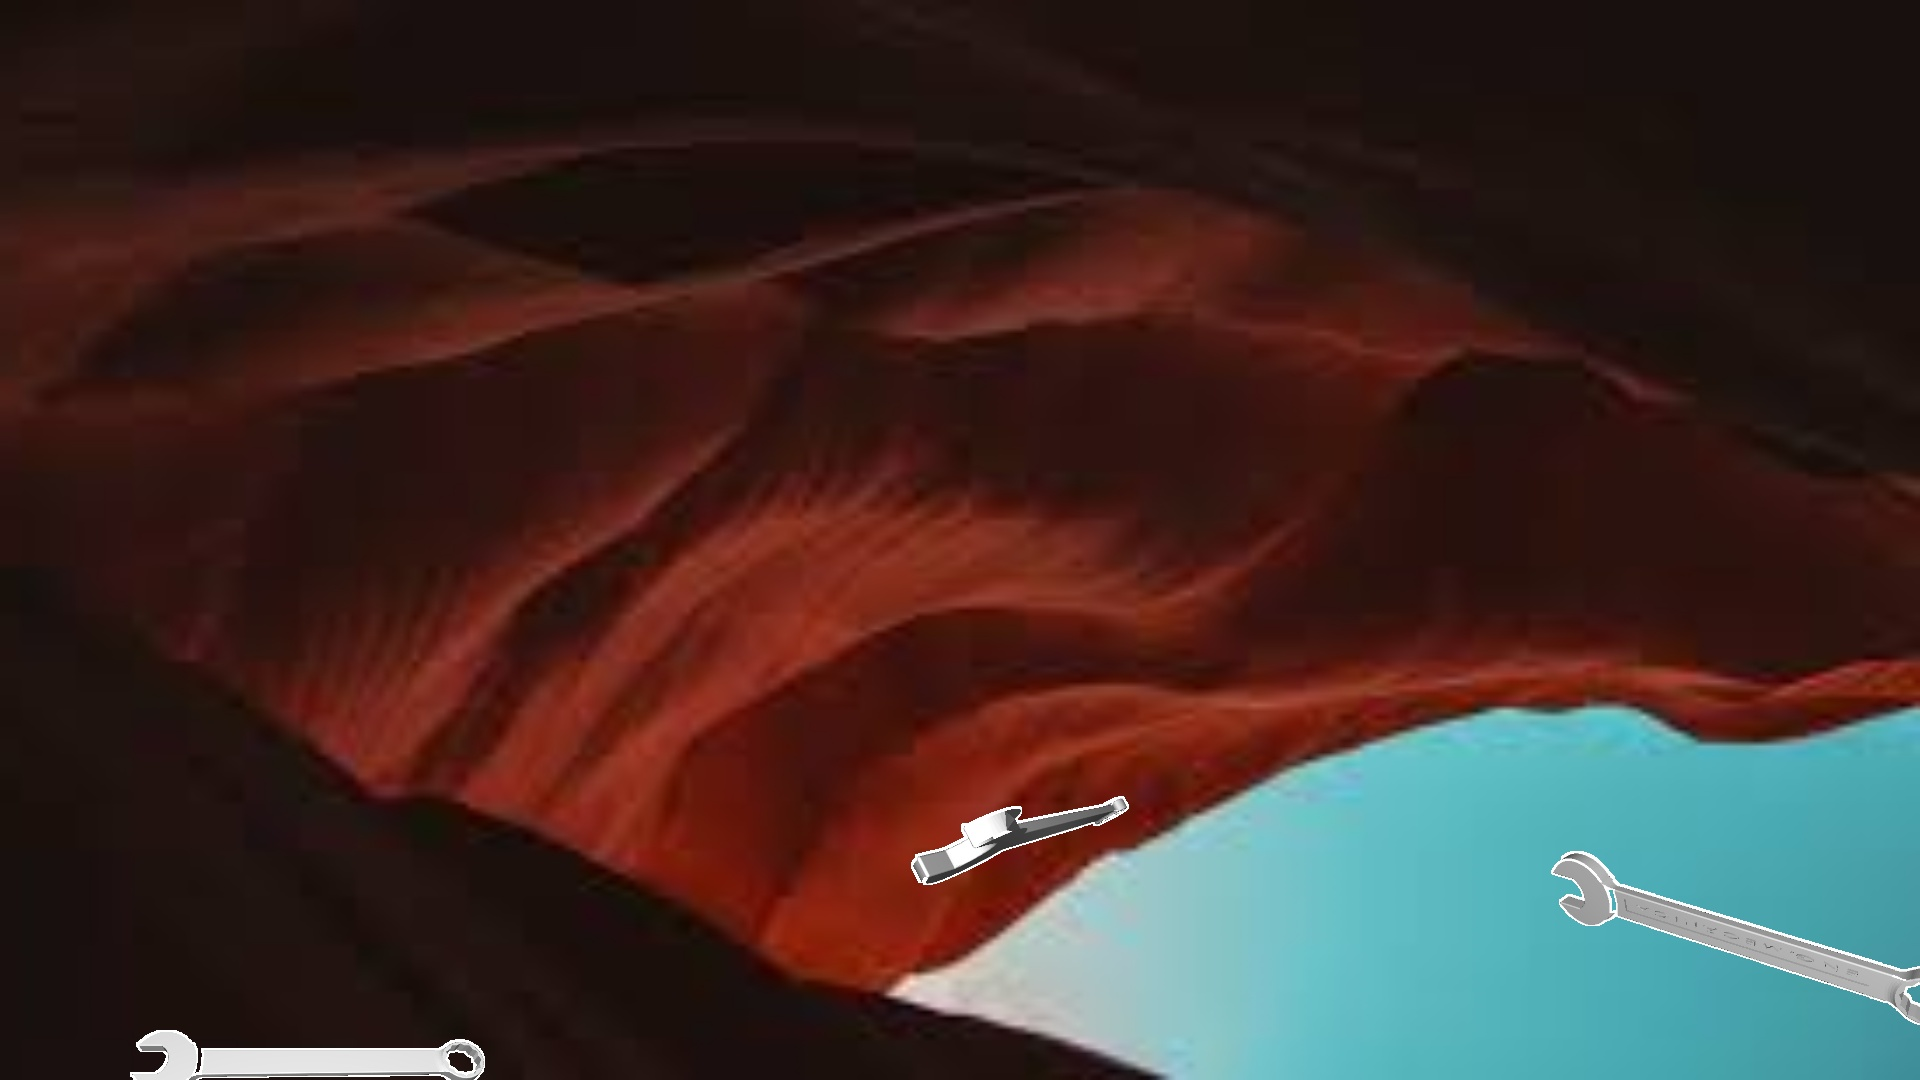Mixed Key: (1551, 851, 1919, 1025), (911, 796, 1127, 884), (131, 1030, 484, 1079)
